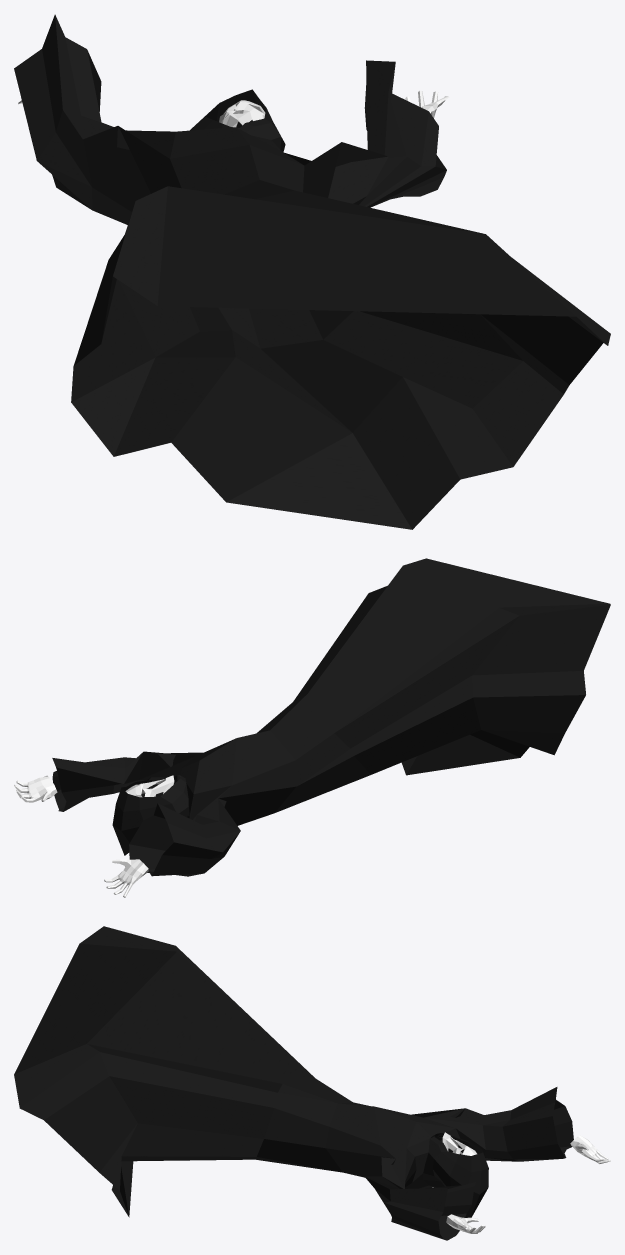
The model's file is ReaperDead(94).obj.
3 renders of one model, top to bottom at view 1: azimuth 30°, elevation 25°; view 2: azimuth 150°, elevation 25°; view 3: azimuth 270°, elevation 25°, orthographic. The views are drawn at different scales.
Visible parts, largest first — view 1: Plane003; view 2: Plane003; view 3: Plane003.
Part boxes in pixels (x1,y1,x2,y2): Plane003: (14, 14, 610, 529); Plane003: (14, 558, 610, 897); Plane003: (14, 926, 610, 1240).
Size of the model in its own units: 210 by 109 by 292.
